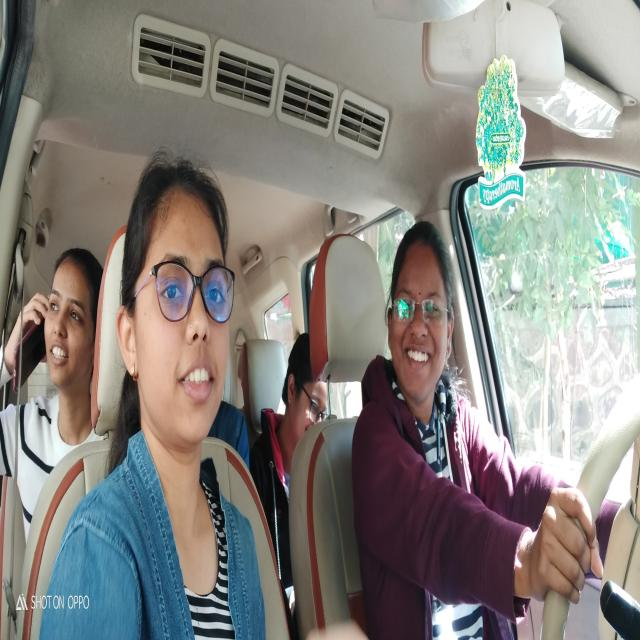LeftRight: (390, 228, 457, 402)
person: (137, 162, 232, 444), (47, 255, 94, 384), (288, 328, 326, 426)
talking: (405, 342, 439, 370)
